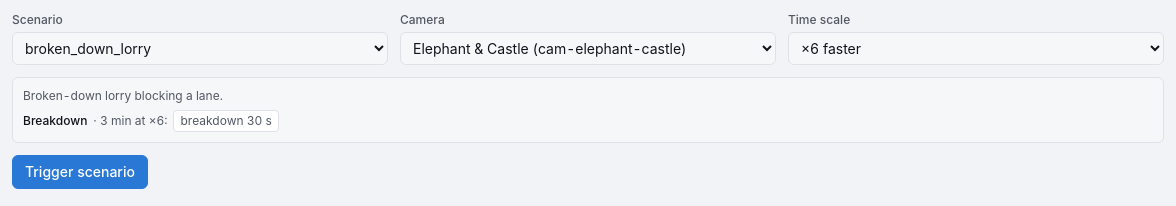
Test case: ScenarioTriggerForm › shows the API's error message
This screenshot has width=1176, height=206.
Click the button "Trigger scenario".
click(80, 172)  # box 12,155 -> 148,189
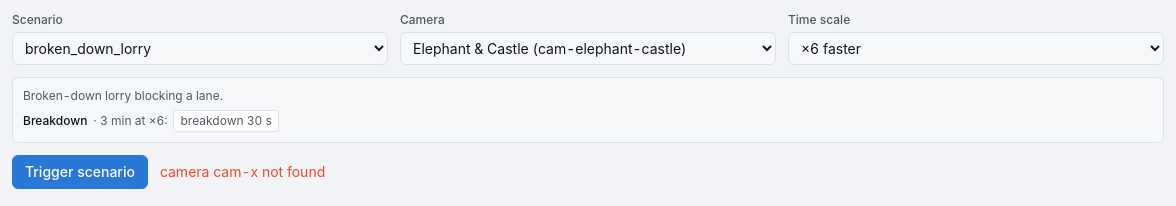
Expected: the message reads "camera cam-x not found", 160,163 -> 325,180
